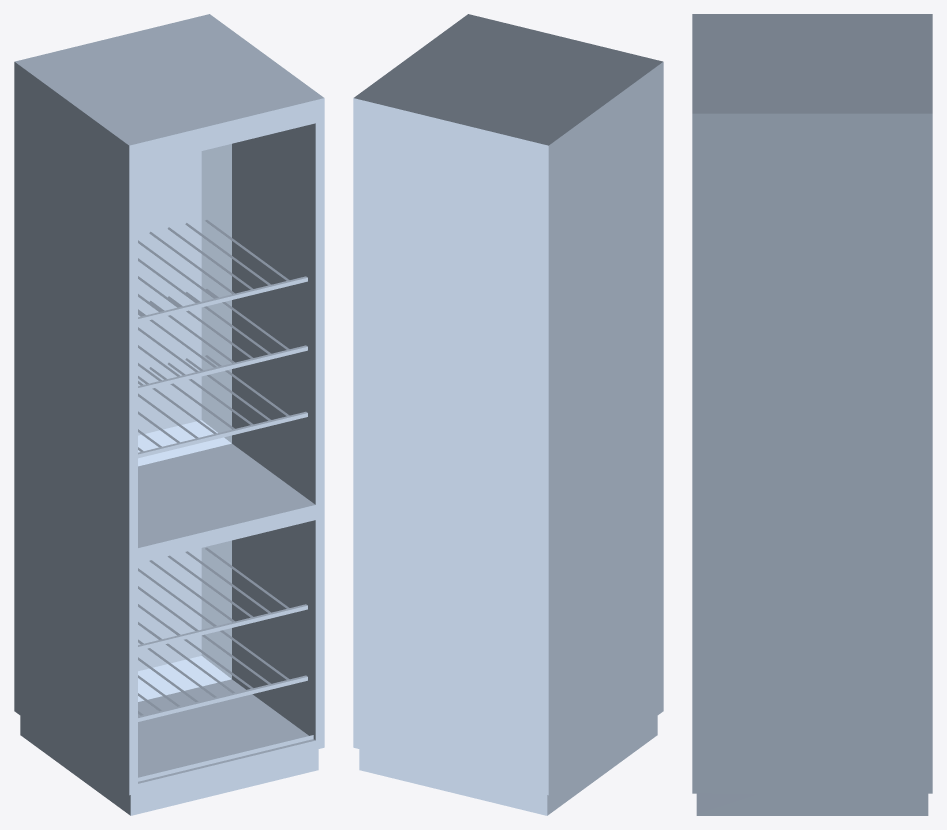
File: RFAIPP_Fridge.FBX
3 views of the same model, side by side, from view 1: azimuth 30°, elevation 25°; view 2: azimuth 150°, elevation 25°; view 3: azimuth 270°, elevation 25° (orthographic). The views are drawn at different scales.
Parts seen in each view (by area): view 1: RFAIPP_Fridge; view 2: RFAIPP_Fridge; view 3: RFAIPP_Fridge.
Part boxes in pixels (x1=…): RFAIPP_Fridge: x1=14, y1=14, x2=324, y2=815; RFAIPP_Fridge: x1=353, y1=14, x2=663, y2=815; RFAIPP_Fridge: x1=692, y1=14, x2=932, y2=815.
Size of the model in its own units: 0.54 by 1.78 by 0.55.
